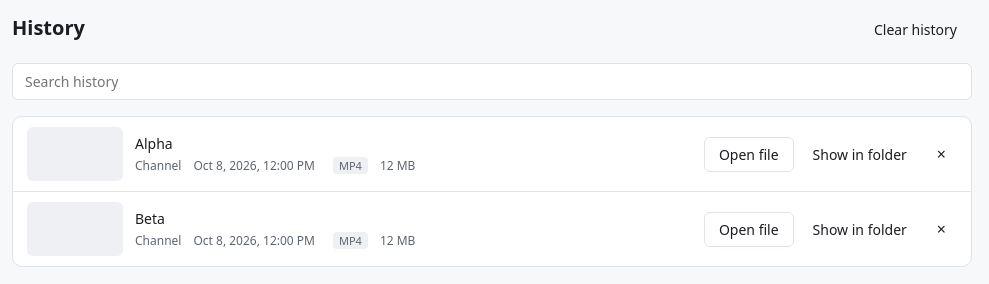
Scenario: HistoryPage › searches
Expected: the text "Alpha" is shown, [135,134,173,153]
Type "bet" into the search field.
click(492, 82); type("bet")  # box [12,63,972,100]
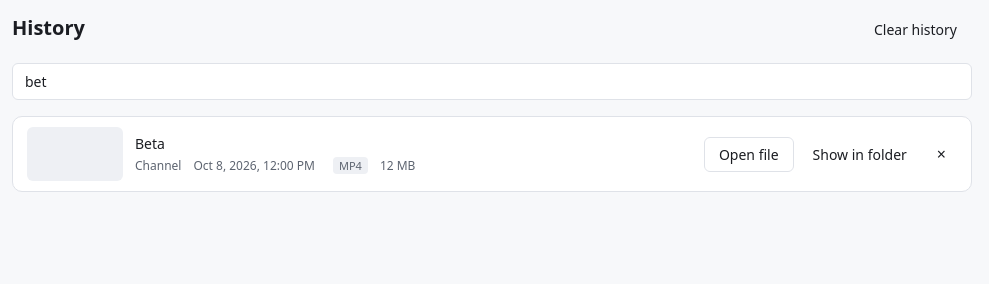
Expected: the text "Beta" is shown, [135,134,165,153]
Expected: the text "Alpha" is gone
